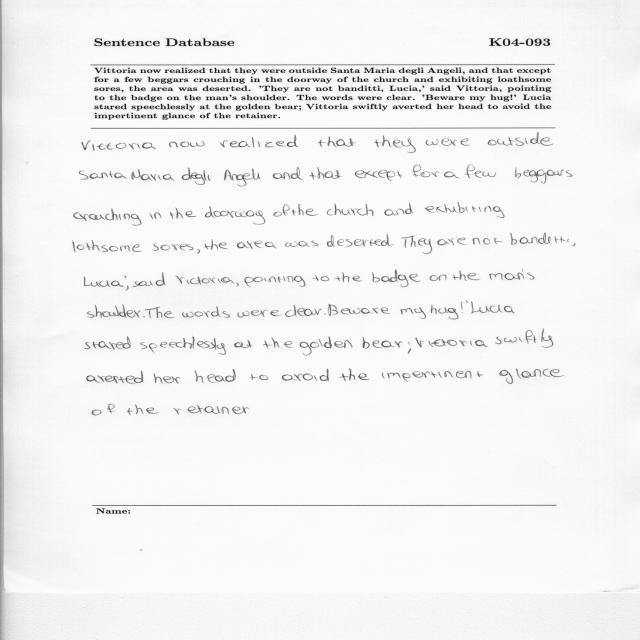word: (140, 336, 226, 355), (425, 202, 505, 218), (74, 209, 142, 226), (205, 206, 265, 225), (495, 329, 554, 348), (382, 371, 483, 382), (219, 135, 298, 148), (300, 337, 353, 356), (499, 369, 564, 384), (515, 168, 573, 184), (488, 132, 554, 146), (372, 270, 421, 287), (327, 234, 391, 247), (73, 240, 142, 252), (82, 140, 156, 151), (374, 135, 416, 153), (88, 304, 141, 318), (87, 371, 144, 384), (510, 233, 569, 245), (245, 276, 306, 287), (415, 338, 488, 347), (224, 169, 260, 187), (85, 336, 131, 350), (282, 369, 329, 382), (182, 306, 230, 318), (195, 369, 236, 383), (471, 301, 515, 314), (327, 204, 374, 216), (173, 405, 229, 415), (176, 276, 235, 285), (131, 169, 175, 181), (355, 170, 403, 181), (182, 167, 211, 185), (132, 272, 166, 287), (363, 337, 403, 349), (489, 270, 534, 280), (79, 171, 127, 180), (285, 305, 321, 317), (318, 136, 356, 147), (310, 167, 342, 180), (464, 165, 496, 178), (84, 277, 124, 287), (431, 305, 459, 319), (385, 203, 414, 216), (237, 310, 282, 318), (340, 369, 370, 381), (426, 138, 470, 146), (341, 308, 390, 315), (145, 307, 175, 318), (153, 243, 194, 251), (413, 165, 440, 177), (237, 241, 277, 249), (127, 405, 159, 415), (292, 204, 318, 216), (400, 307, 426, 319), (263, 338, 293, 348), (170, 208, 197, 219), (154, 373, 181, 384), (335, 273, 362, 283), (453, 271, 480, 281), (204, 239, 228, 250), (92, 405, 115, 416), (437, 238, 466, 246), (418, 238, 432, 254), (273, 204, 290, 217), (472, 238, 503, 245), (169, 141, 205, 147), (285, 241, 318, 247), (401, 235, 416, 248), (291, 167, 303, 180), (234, 340, 252, 348), (232, 406, 249, 414), (328, 304, 338, 316), (273, 173, 290, 180), (250, 374, 269, 380), (444, 172, 460, 179), (313, 275, 330, 281), (430, 275, 447, 281), (150, 212, 162, 219), (408, 342, 411, 353), (461, 302, 463, 313), (125, 286, 129, 290), (197, 249, 200, 254), (572, 243, 576, 246), (236, 283, 239, 287), (124, 276, 126, 278), (324, 313, 326, 315), (466, 301, 468, 303), (392, 244, 394, 245), (143, 316, 145, 317)
